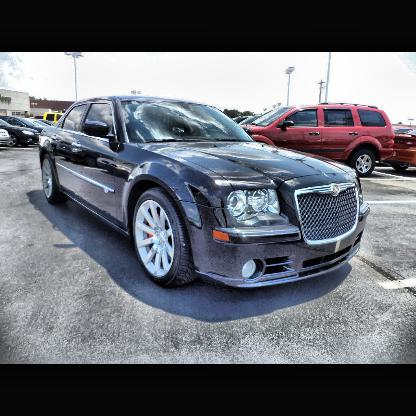Chrysler 300 SRT-8 2010: (40, 96, 373, 293)
